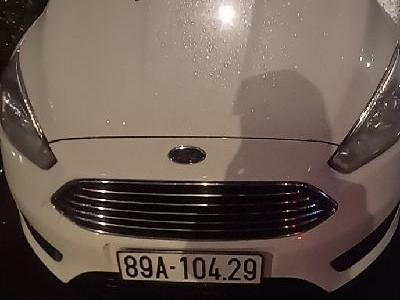number: (117, 250, 263, 286)
